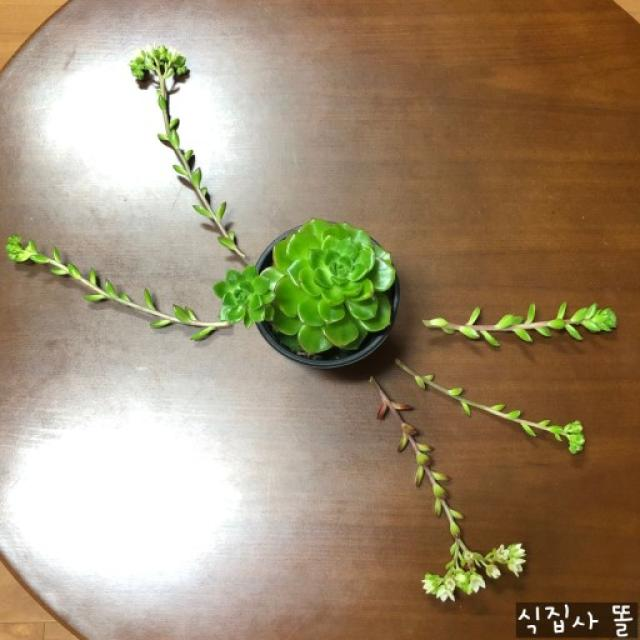Letizia: (215, 219, 395, 354), (422, 302, 616, 346)
